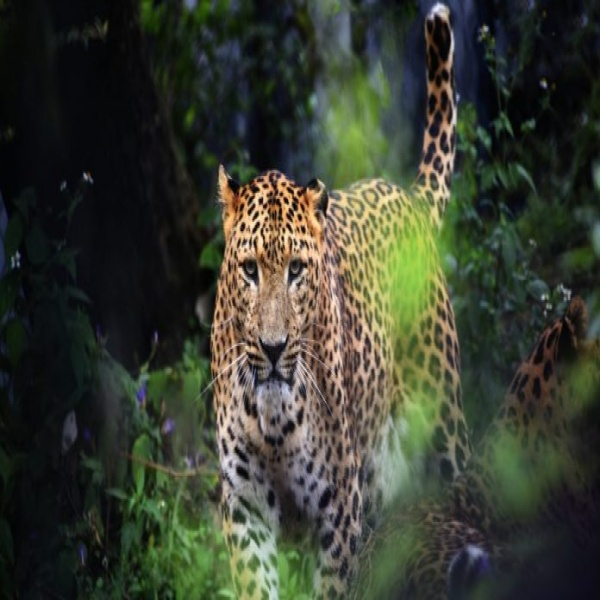Leopard: (206, 4, 479, 600)
